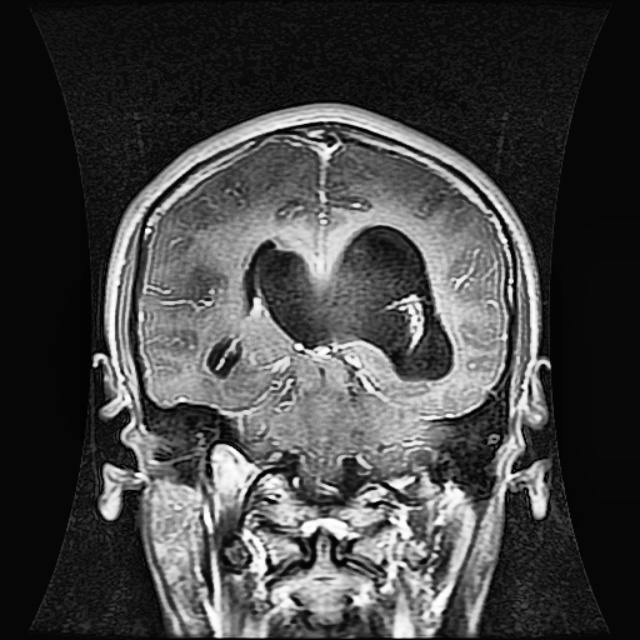Meningioma: (239, 225, 455, 383)
